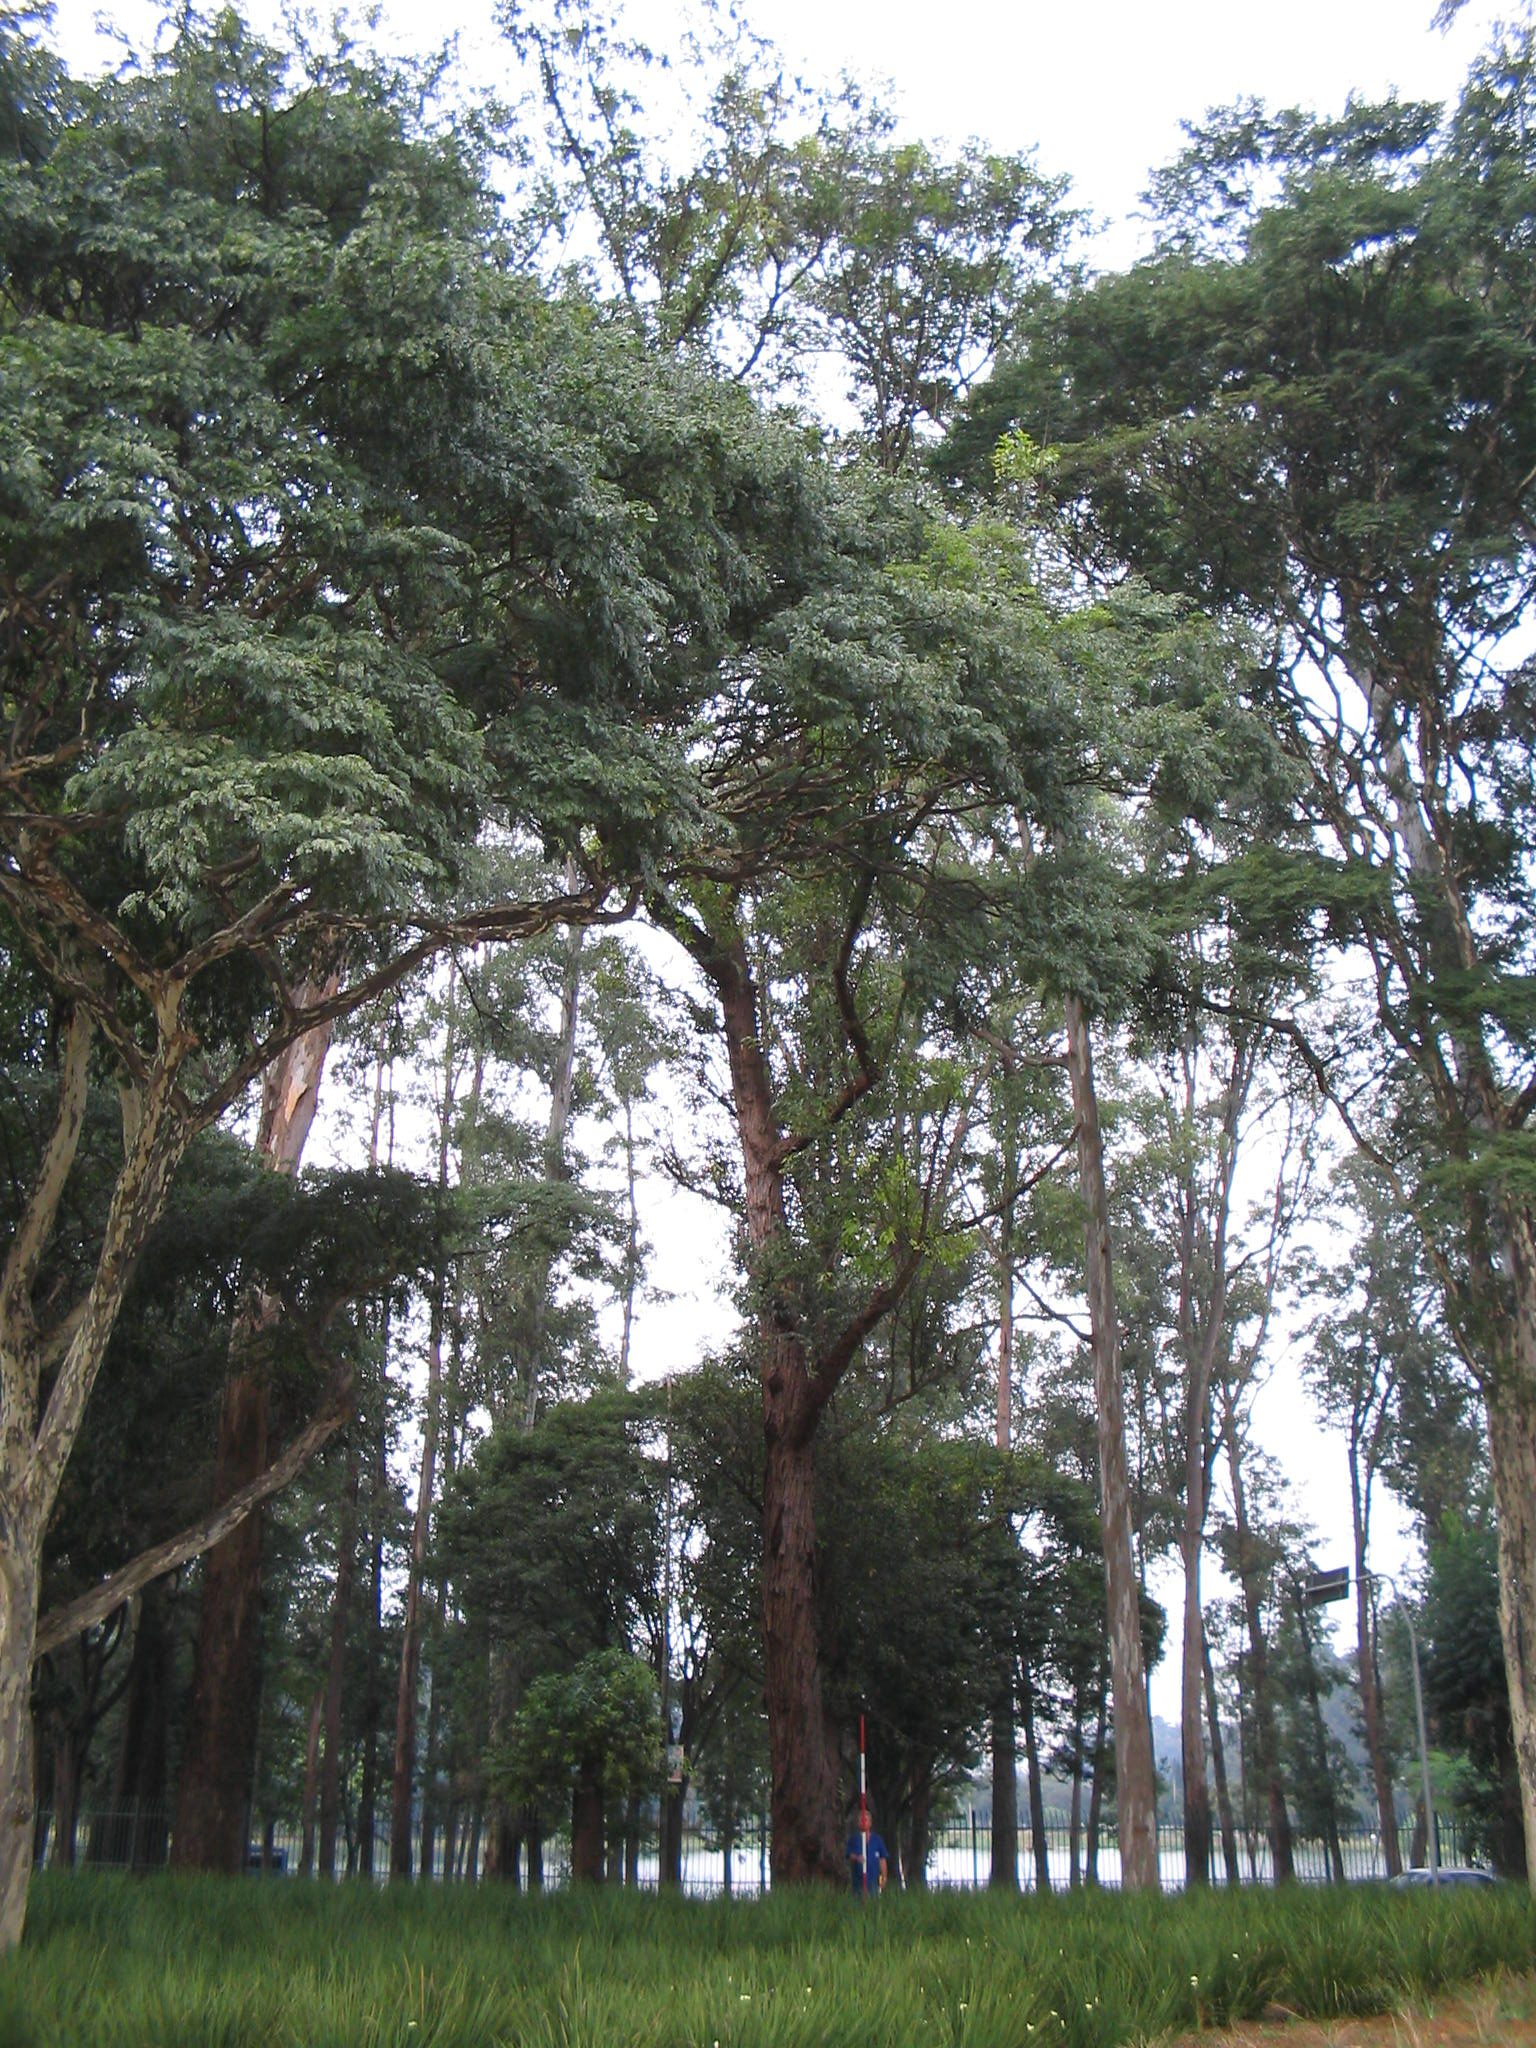crown: (19, 26, 737, 1082), (565, 518, 1383, 1116)
stem: (715, 1413, 854, 1887)
stick: (837, 1713, 886, 1895)
tree: (2, 21, 744, 1945), (553, 521, 1391, 1892)
